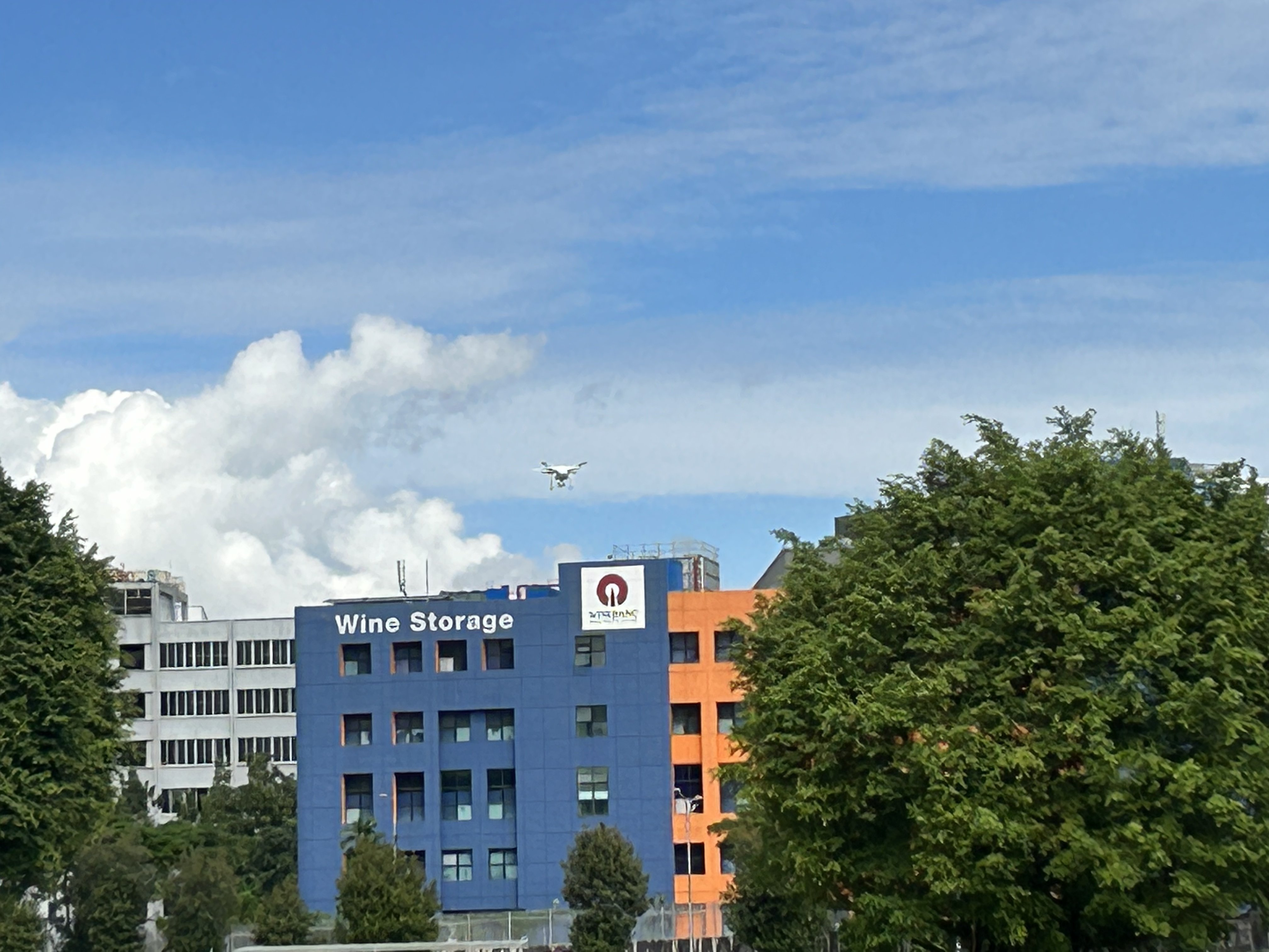drone_other: (535, 456, 588, 494)
